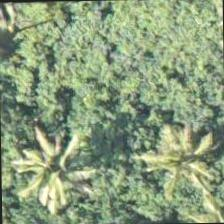Kelapa_Sawit: (7, 124, 99, 216), (132, 106, 223, 199)
